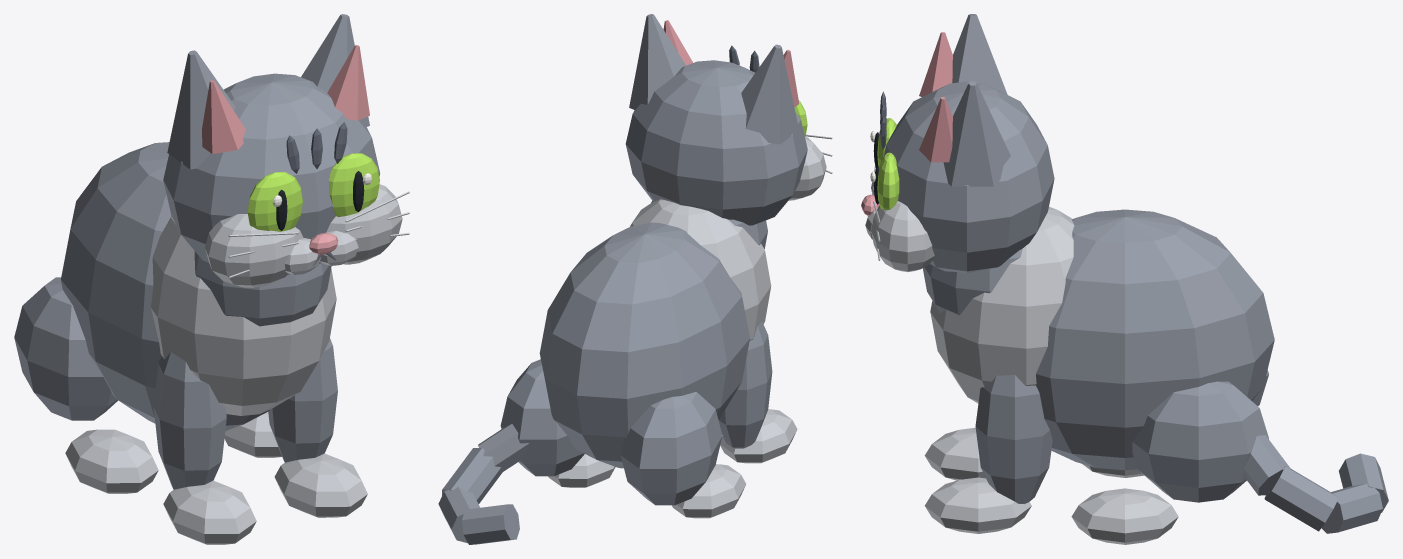
Rendered from Cat.glb.
The picture shows the model from 3 angles, left to right: view 1: azimuth 30°, elevation 25°; view 2: azimuth 150°, elevation 25°; view 3: azimuth 270°, elevation 25°; orthographic projection. The views are drawn at different scales.
Parts seen in each view (by area): view 1: Cat_Body, Cat_Head, Cat_Chest, Cat_Hind_Leg_L, Cat_Front_Leg_L, Cat_Neck, Cat_Front_Leg_R, Cat_Cheek_L, Cat_Hind_Paw_L, Cat_Front_Paw_L, Cat_Front_Paw_R, Cat_Ear_L (+10 smaller); view 2: Cat_Body, Cat_Head, Cat_Hind_Leg_L, Cat_Chest, Cat_Hind_Leg_R, Cat_Front_Leg_L, Cat_Ear_L, Cat_Ear_R, Cat_Hind_Paw_L, Cat_Front_Paw_L, Cat_Tail_Segment_4, Cat_Tail_Segment_2 (+5 smaller); view 3: Cat_Body, Cat_Head, Cat_Chest, Cat_Hind_Leg_R, Cat_Front_Leg_R, Cat_Ear_R, Cat_Hind_Paw_R, Cat_Front_Paw_R, Cat_Cheek_R, Cat_Neck, Cat_Tail_Segment_2, Cat_Ear_L (+7 smaller).
Part boxes in pixels (bbox=[...]): Cat_Body: bbox=[61, 142, 269, 430]; Cat_Head: bbox=[163, 73, 380, 274]; Cat_Chest: bbox=[151, 216, 336, 415]; Cat_Hind_Leg_L: bbox=[14, 277, 117, 420]; Cat_Front_Leg_L: bbox=[153, 352, 226, 489]; Cat_Neck: bbox=[194, 251, 331, 326]; Cat_Front_Leg_R: bbox=[268, 338, 337, 462]; Cat_Cheek_L: bbox=[205, 214, 303, 287]; Cat_Hind_Paw_L: bbox=[65, 429, 158, 493]; Cat_Front_Paw_L: bbox=[163, 480, 256, 544]; Cat_Front_Paw_R: bbox=[274, 453, 367, 517]; Cat_Ear_L: bbox=[167, 50, 235, 169]; Cat_Body: bbox=[539, 222, 749, 468]; Cat_Head: bbox=[625, 60, 807, 225]; Cat_Hind_Leg_L: bbox=[620, 392, 722, 505]; Cat_Chest: bbox=[630, 199, 771, 340]; Cat_Hind_Leg_R: bbox=[500, 359, 584, 476]; Cat_Front_Leg_L: bbox=[718, 321, 772, 448]; Cat_Ear_L: bbox=[741, 44, 799, 144]; Cat_Ear_R: bbox=[629, 14, 685, 109]; Cat_Hind_Paw_L: bbox=[672, 464, 745, 518]; Cat_Front_Paw_L: bbox=[720, 409, 797, 463]; Cat_Tail_Segment_4: bbox=[462, 504, 519, 544]; Cat_Tail_Segment_2: bbox=[442, 448, 502, 503]; Cat_Body: bbox=[1036, 209, 1274, 470]; Cat_Head: bbox=[884, 81, 1054, 273]; Cat_Chest: bbox=[930, 206, 1074, 403]; Cat_Hind_Leg_R: bbox=[1132, 381, 1268, 502]; Cat_Front_Leg_R: bbox=[975, 375, 1052, 503]; Cat_Ear_R: bbox=[943, 81, 1010, 186]; Cat_Hind_Paw_R: bbox=[1071, 488, 1178, 544]; Cat_Front_Paw_R: bbox=[924, 477, 1031, 533]; Cat_Cheek_R: bbox=[871, 201, 934, 272]; Cat_Neck: bbox=[922, 248, 1022, 315]; Cat_Tail_Segment_2: bbox=[1264, 466, 1338, 531]; Cat_Ear_L: bbox=[952, 14, 1007, 94].
Size of the model in its own units: 0.9541 by 1.79 by 1.87.
